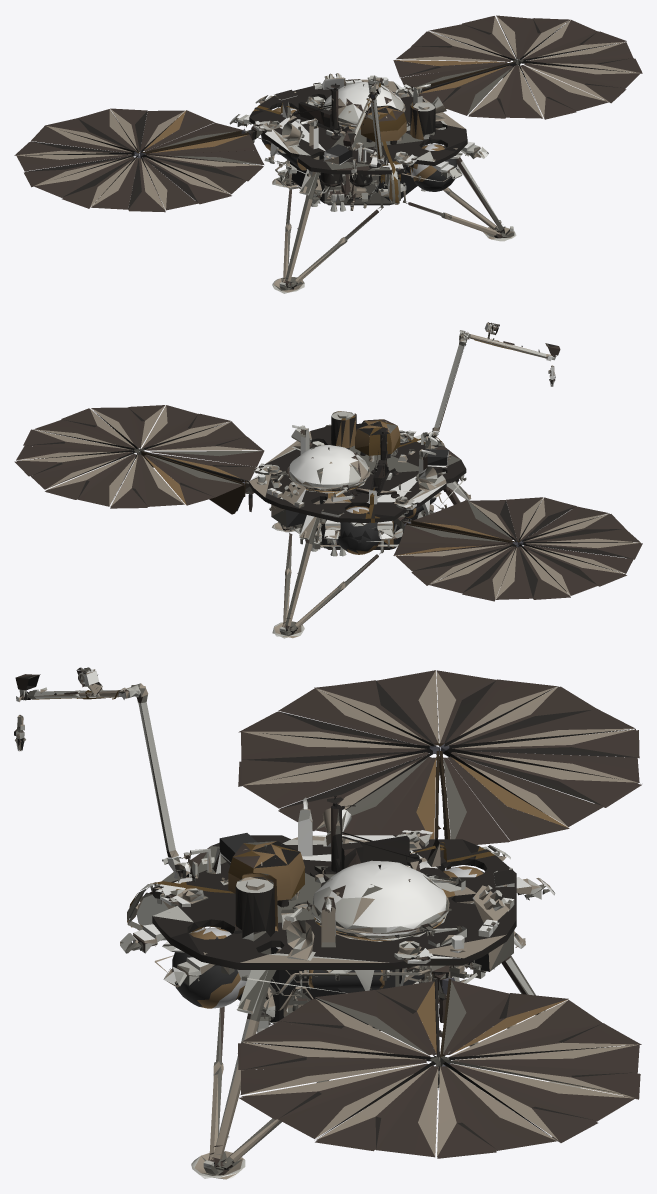
File: insight.glb
3 views of the same model, one above another, from view 1: azimuth 30°, elevation 25°; view 2: azimuth 150°, elevation 25°; view 3: azimuth 270°, elevation 25° (orthographic). The views are drawn at different scales.
Parts seen in each view (by area): view 1: body, foil, solar-panel; view 2: body, foil, solar-panel; view 3: body, foil, solar-panel.
Part boxes in pixels (bbox=[...]): body: bbox=[14, 15, 642, 293]; foil: bbox=[144, 60, 507, 203]; solar-panel: bbox=[134, 61, 514, 210]; body: bbox=[14, 322, 642, 638]; foil: bbox=[144, 416, 499, 555]; solar-panel: bbox=[141, 451, 523, 555]; body: bbox=[14, 667, 641, 1179]; foil: bbox=[139, 757, 568, 1054]; solar-panel: bbox=[429, 743, 454, 1066].
Size of the model in its own units: 6.13 by 2.17 by 3.33.
